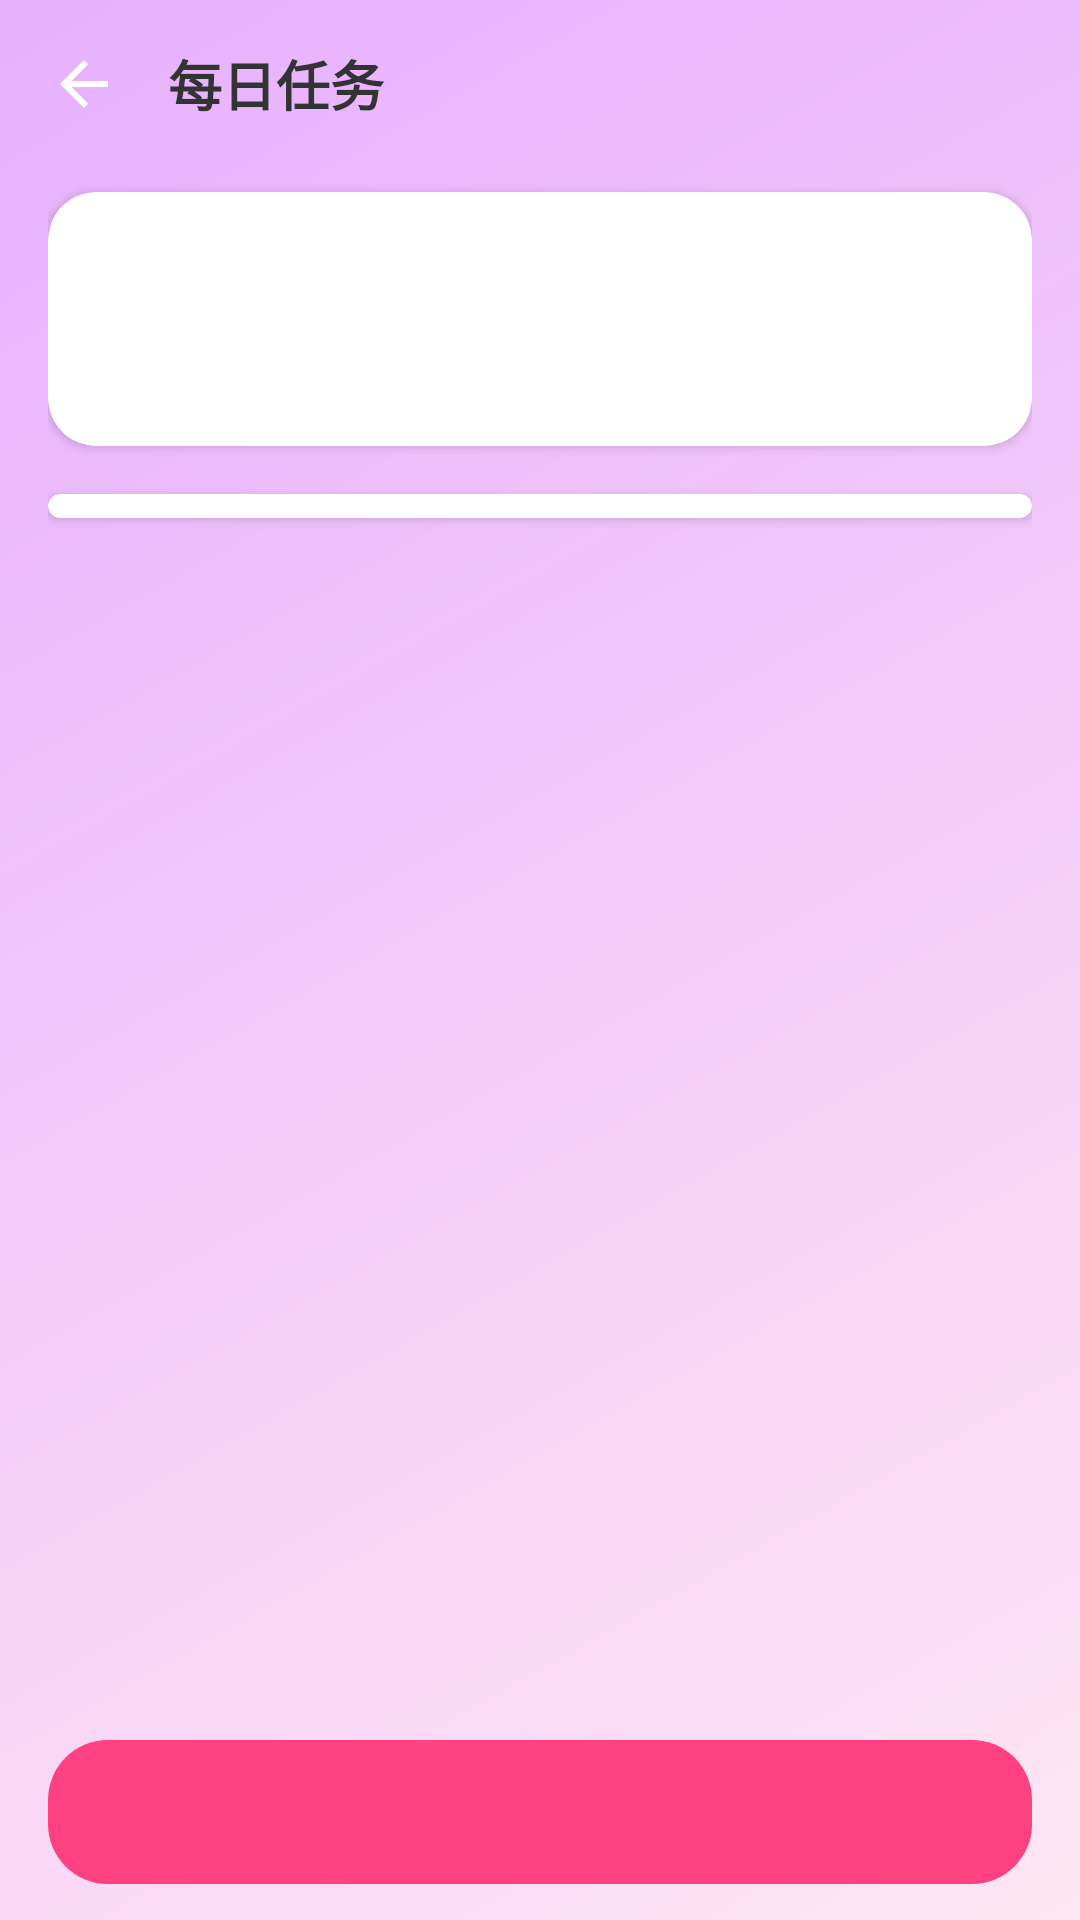

Locate icon controls on the screen. Image size 1080px×1920px, boxes as box=[x1, y1, x2, y2].
返回: box=[60, 60, 108, 108]
